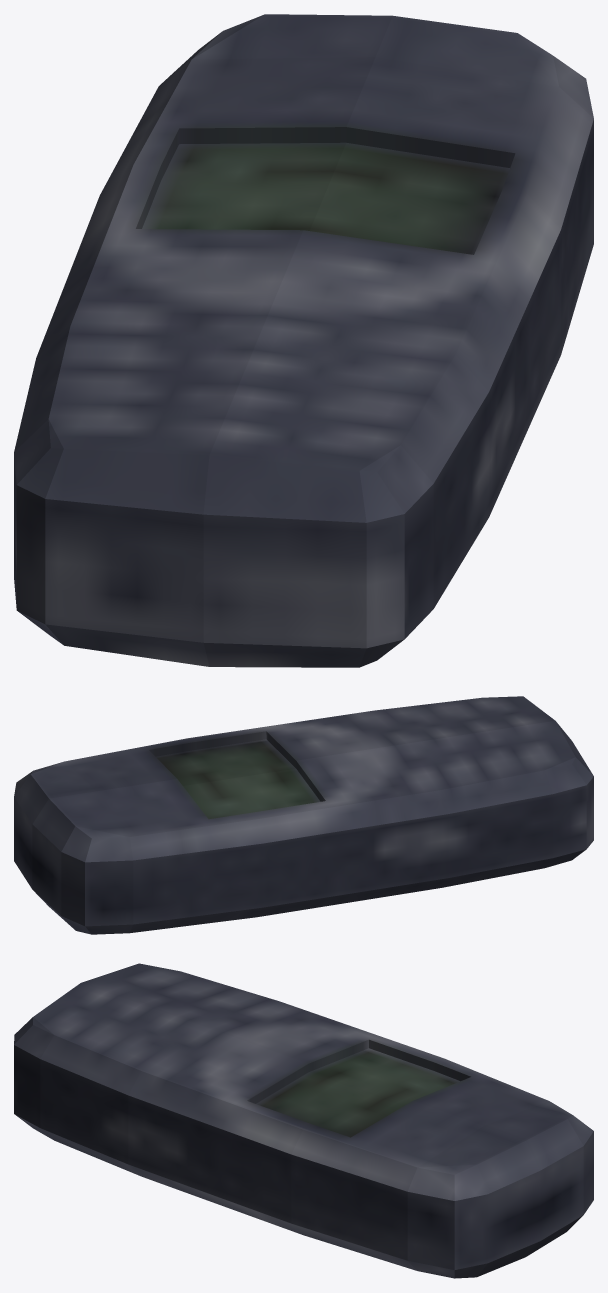
The picture shows the model from 3 angles, top to bottom: view 1: azimuth 30°, elevation 25°; view 2: azimuth 150°, elevation 25°; view 3: azimuth 270°, elevation 25°; orthographic projection. The views are drawn at different scales.
Visible parts, largest first — view 1: cell_phone_2; view 2: cell_phone_2; view 3: cell_phone_2.
Part boxes in pixels (box(x1,y1,x2,y2)): cell_phone_2: box(14, 14, 593, 667); cell_phone_2: box(14, 696, 593, 934); cell_phone_2: box(14, 963, 593, 1278).
Size of the model in its own units: 0.2025 by 0.0486 by 0.2192.
1 material, 1 textured.
